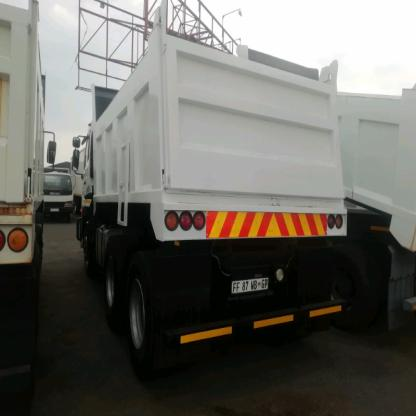dump_truck: (66, 17, 373, 373)
